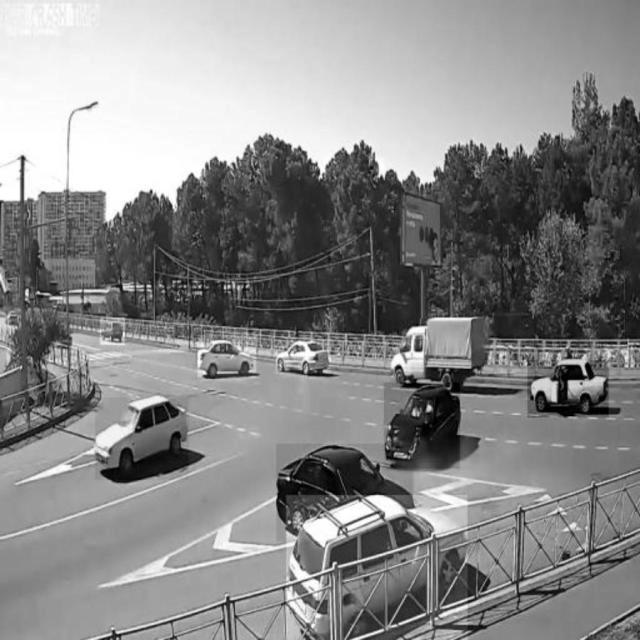vehicle: (287, 495, 467, 639), (277, 444, 414, 542), (96, 398, 189, 481), (389, 319, 487, 387), (384, 383, 460, 469), (528, 361, 609, 418), (198, 336, 256, 378), (275, 340, 331, 374), (100, 318, 125, 345)
